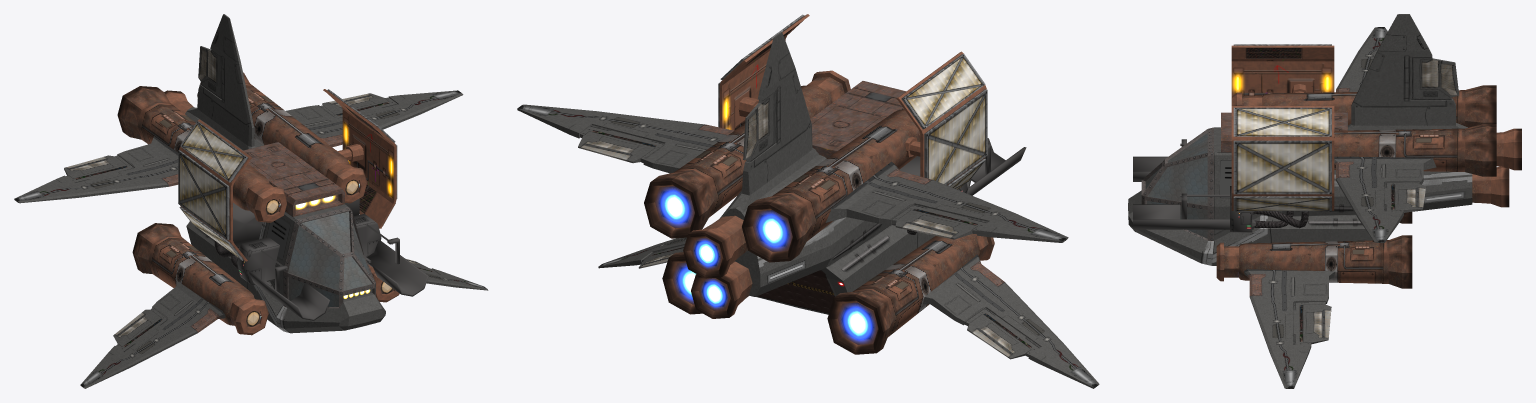
The model's file is Scavanger Craft_test.fbx.
The picture shows the model from 3 angles, left to right: view 1: azimuth 30°, elevation 25°; view 2: azimuth 150°, elevation 25°; view 3: azimuth 270°, elevation 25°; orthographic projection. The views are drawn at different scales.
Visible parts, largest first — view 1: Machines, Fuselage, Window; view 2: Fuselage, Machines; view 3: Machines, Fuselage, Window.
Part boxes in pixels (left/top/right/bottom): Machines: left=117, top=72, right=428, bottom=335; Fuselage: left=14, top=14, right=488, bottom=388; Window: left=288, top=211, right=371, bottom=306; Fuselage: left=517, top=32, right=1099, bottom=388; Machines: left=644, top=14, right=1026, bottom=354; Machines: left=1133, top=44, right=1521, bottom=288; Fuselage: left=1128, top=14, right=1472, bottom=388; Window: left=1145, top=133, right=1207, bottom=238.
Size of the model in its own units: 15 by 9.04 by 11.63.
